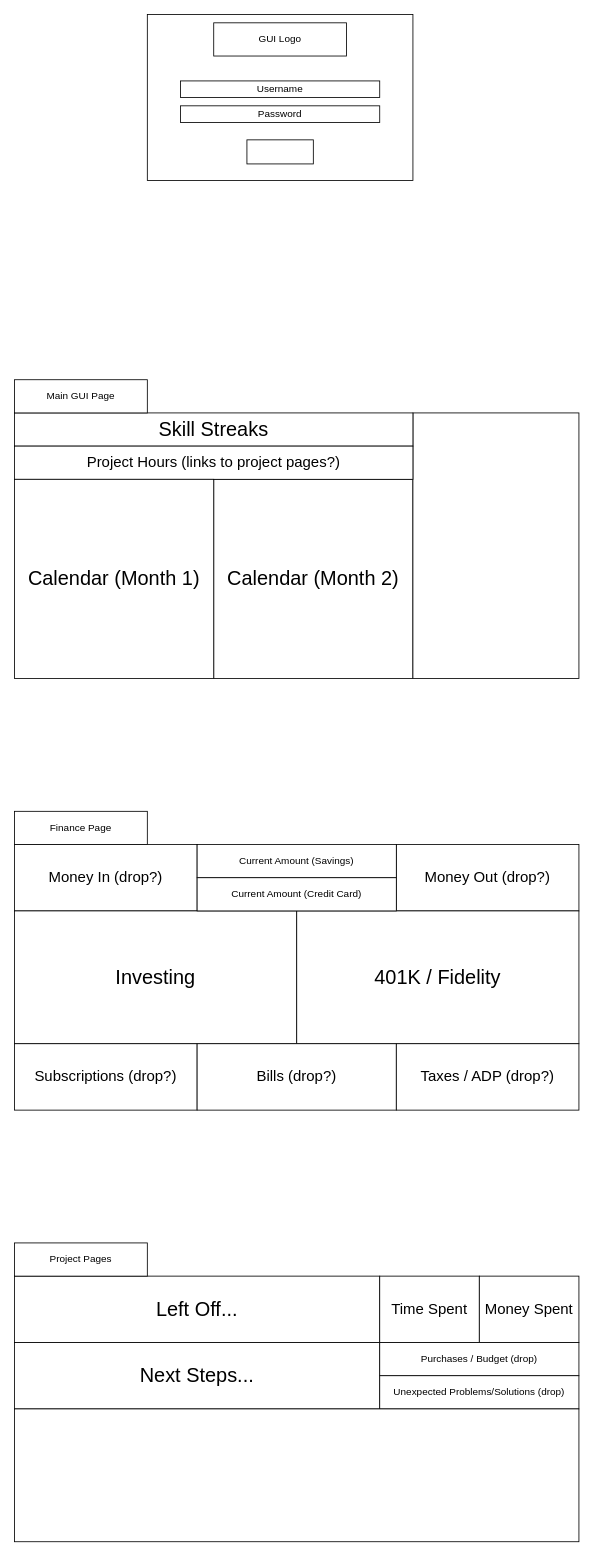
Image size: 593x1556. Some labels were removed from this diagram. The box of each missing label's shape, as (x1, y1, x2, y2) in pixels:
Login: (246, 139, 313, 164)
Resources: (14, 1408, 579, 1542)
To Research: (412, 412, 579, 679)
